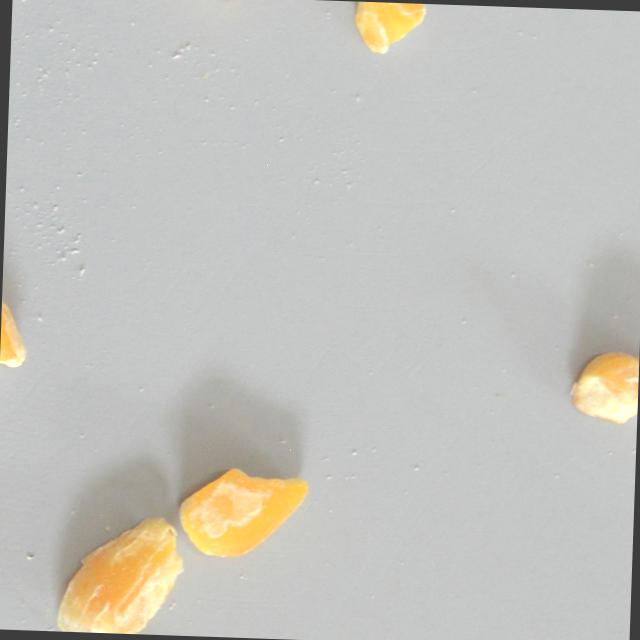pelicula: (55, 511, 185, 635), (177, 462, 310, 560), (568, 350, 639, 424), (349, 1, 427, 55), (0, 281, 29, 367)
